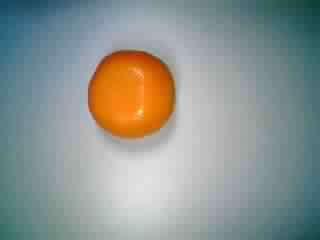orange: (84, 45, 180, 141)
